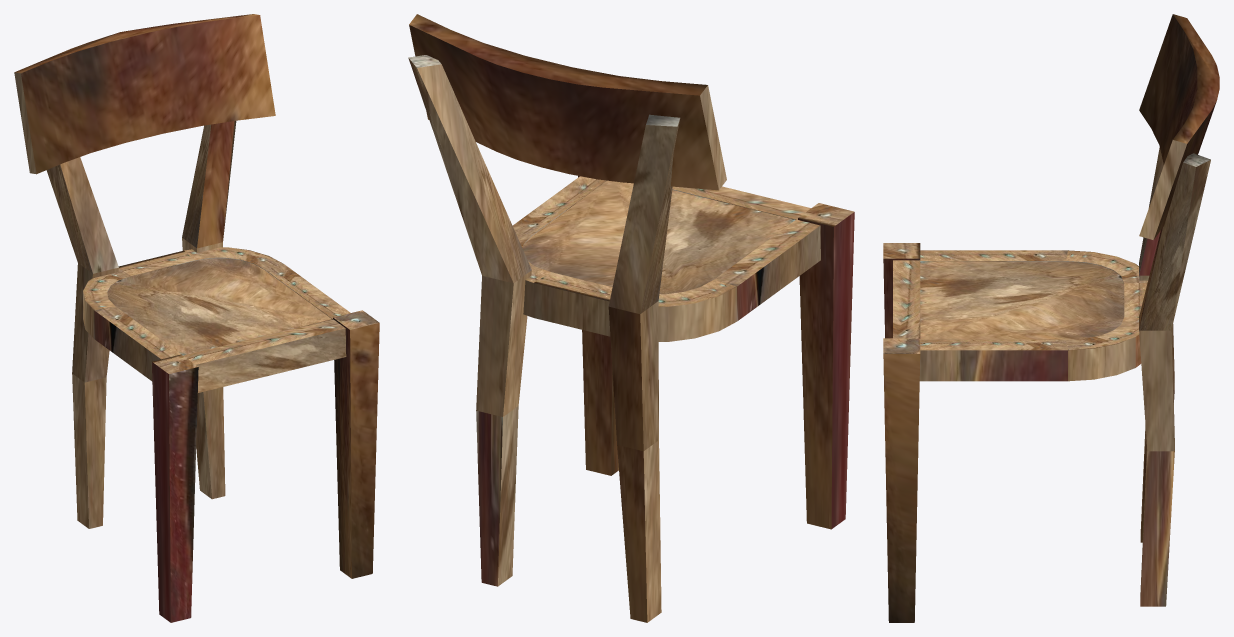
Rendered from Chair.fbx.
3 views of the same model, side by side, from view 1: azimuth 30°, elevation 25°; view 2: azimuth 150°, elevation 25°; view 3: azimuth 270°, elevation 25° (orthographic). The views are drawn at different scales.
Visible parts, largest first — view 1: Cube.002; view 2: Cube.002; view 3: Cube.002.
Boxes of the visible parts, x1,y1,x2,y2 form: Cube.002: (14, 14, 379, 622); Cube.002: (408, 14, 854, 622); Cube.002: (883, 14, 1219, 622).
Size of the model in its own units: 58.76 by 107 by 66.38.
